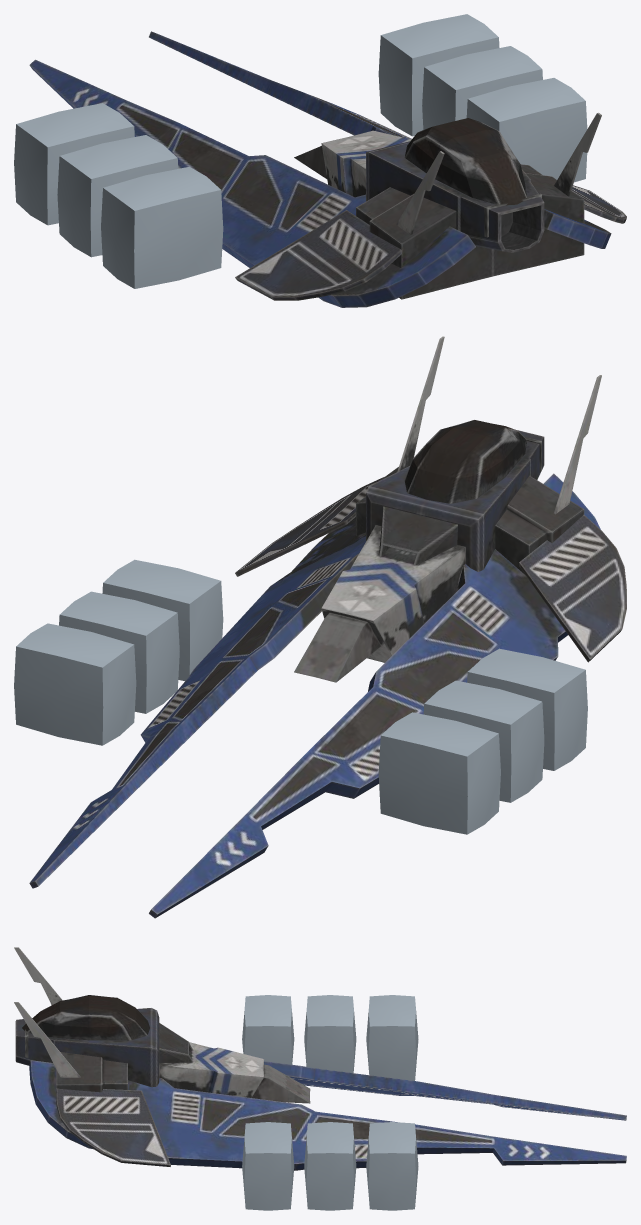
Rendered from player_cargo.glb.
3 renders of one model, top to bottom at view 1: azimuth 30°, elevation 25°; view 2: azimuth 150°, elevation 25°; view 3: azimuth 270°, elevation 25°, orthographic. The views are drawn at different scales.
Parts seen in each view (by area): view 1: player_cargo; view 2: player_cargo; view 3: player_cargo.
Part boxes in pixels (box(x1,y1,x2,y2)): player_cargo: box(14, 14, 626, 307); player_cargo: box(14, 336, 626, 918); player_cargo: box(14, 947, 626, 1210).
Bounding box in the file's own units: 1.16 × 0.5642 × 1.88.
Materials: 2 (1 with a texture image).
